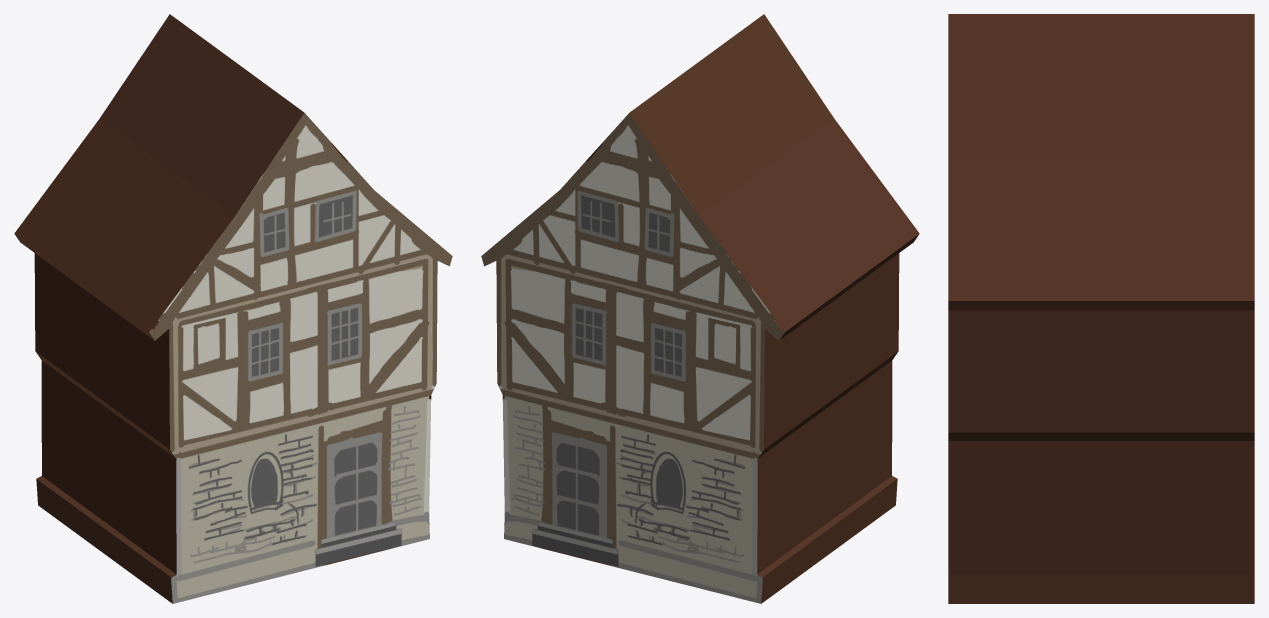
The model's file is House.fbx.
3 renders of one model, left to right at view 1: azimuth 30°, elevation 25°; view 2: azimuth 150°, elevation 25°; view 3: azimuth 270°, elevation 25°, orthographic. The views are drawn at different scales.
Parts seen in each view (by area): view 1: House test; view 2: House test; view 3: House test.
Boxes of the visible parts, x1,y1,x2,y2 form: House test: [14, 14, 452, 603]; House test: [481, 14, 919, 603]; House test: [948, 14, 1254, 603].
Size of the model in its own units: 57.49 by 83.06 by 44.15.
